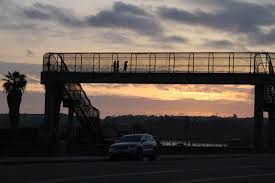bridge: (42, 51, 275, 87)
